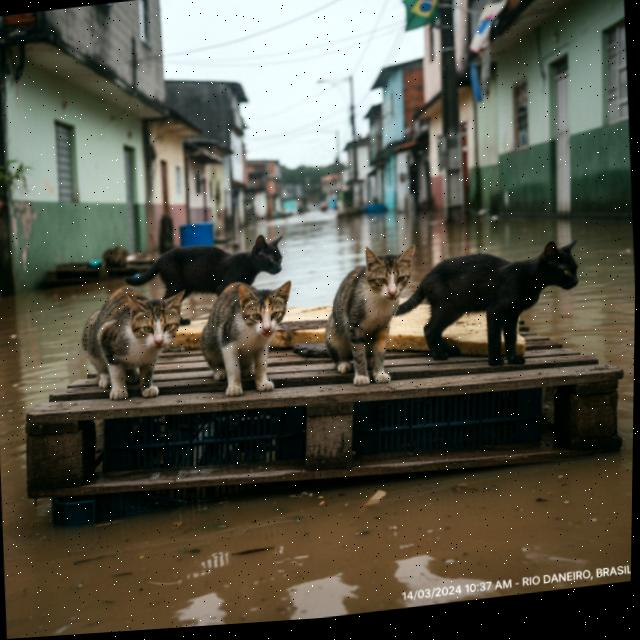cat: (385, 228, 592, 379), (316, 235, 420, 391), (124, 228, 301, 316), (76, 279, 187, 408), (193, 273, 291, 403)
